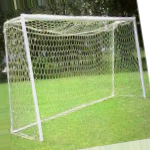goals: (3, 12, 147, 139)
